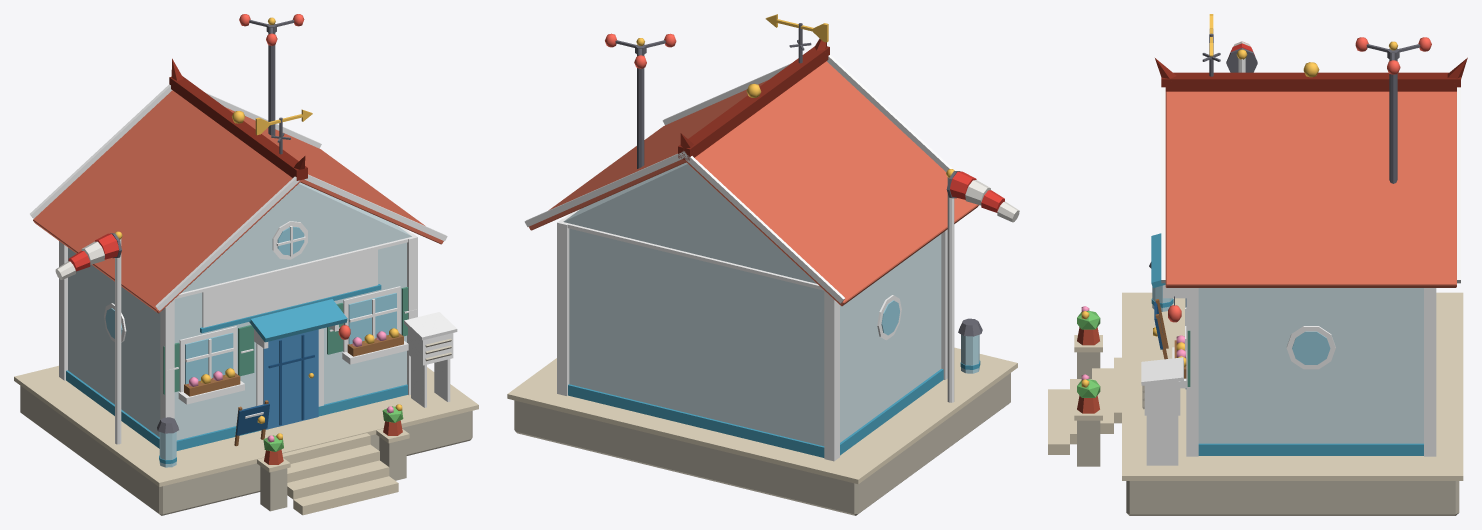
File: dai-khi-tuong.glb
3 renders of one model, left to right at view 1: azimuth 30°, elevation 25°; view 2: azimuth 150°, elevation 25°; view 3: azimuth 270°, elevation 25°, orthographic. The views are drawn at different scales.
Parts seen in each view (by area): view 1: dai-khi-tuong-6, dai-khi-tuong-10, dai-khi-tuong-7, dai-khi-tuong-1, dai-khi-tuong-0, dai-khi-tuong-8, dai-khi-tuong-14, dai-khi-tuong-9, dai-khi-tuong-11, dai-khi-tuong-12, dai-khi-tuong-19, dai-khi-tuong-16 (+6 smaller); view 2: dai-khi-tuong-6, dai-khi-tuong-10, dai-khi-tuong-0, dai-khi-tuong-7, dai-khi-tuong-1, dai-khi-tuong-8, dai-khi-tuong-11, dai-khi-tuong-12, dai-khi-tuong-16, dai-khi-tuong-22, dai-khi-tuong-13, dai-khi-tuong-23 (+1 smaller); view 3: dai-khi-tuong-11, dai-khi-tuong-6, dai-khi-tuong-1, dai-khi-tuong-0, dai-khi-tuong-7, dai-khi-tuong-12, dai-khi-tuong-8, dai-khi-tuong-16, dai-khi-tuong-9, dai-khi-tuong-2, dai-khi-tuong-3, dai-khi-tuong-13 (+1 smaller).
Part boxes in pixels (bbox=[...]): dai-khi-tuong-6: bbox=[68, 182, 411, 440]; dai-khi-tuong-10: bbox=[33, 90, 301, 313]; dai-khi-tuong-7: bbox=[30, 84, 457, 444]; dai-khi-tuong-1: bbox=[14, 365, 478, 515]; dai-khi-tuong-0: bbox=[20, 338, 472, 515]; dai-khi-tuong-8: bbox=[66, 284, 407, 463]; dai-khi-tuong-14: bbox=[263, 329, 318, 429]; dai-khi-tuong-9: bbox=[105, 226, 396, 384]; dai-khi-tuong-11: bbox=[225, 107, 443, 244]; dai-khi-tuong-12: bbox=[169, 58, 307, 180]; dai-khi-tuong-19: bbox=[163, 287, 408, 394]; dai-khi-tuong-16: bbox=[110, 20, 345, 433]; dai-khi-tuong-6: bbox=[563, 162, 941, 446]; dai-khi-tuong-10: bbox=[684, 61, 978, 306]; dai-khi-tuong-0: bbox=[514, 373, 1010, 515]; dai-khi-tuong-7: bbox=[524, 55, 954, 461]; dai-khi-tuong-1: bbox=[507, 347, 1017, 484]; dai-khi-tuong-8: bbox=[568, 360, 980, 457]; dai-khi-tuong-11: bbox=[529, 80, 768, 230]; dai-khi-tuong-12: bbox=[678, 38, 829, 160]; dai-khi-tuong-16: bbox=[615, 23, 982, 336]; dai-khi-tuong-22: bbox=[950, 171, 1004, 212]; dai-khi-tuong-13: bbox=[636, 14, 954, 177]; dai-khi-tuong-23: bbox=[965, 180, 1019, 222]; dai-khi-tuong-11: bbox=[1165, 91, 1456, 287]; dai-khi-tuong-6: bbox=[1198, 288, 1423, 443]; dai-khi-tuong-1: bbox=[1048, 292, 1463, 480]; dai-khi-tuong-0: bbox=[1077, 352, 1459, 515]; dai-khi-tuong-7: bbox=[1141, 58, 1460, 465]; dai-khi-tuong-12: bbox=[1155, 57, 1467, 91]; dai-khi-tuong-8: bbox=[1151, 233, 1423, 455]; dai-khi-tuong-16: bbox=[1149, 33, 1420, 305]; dai-khi-tuong-9: bbox=[1292, 331, 1330, 364]; dai-khi-tuong-2: bbox=[1077, 327, 1099, 413]; dai-khi-tuong-3: bbox=[1077, 310, 1100, 397]; dai-khi-tuong-13: bbox=[1209, 14, 1397, 77].
Size of the model in its own units: 8.03 by 7.5 by 6.71.
